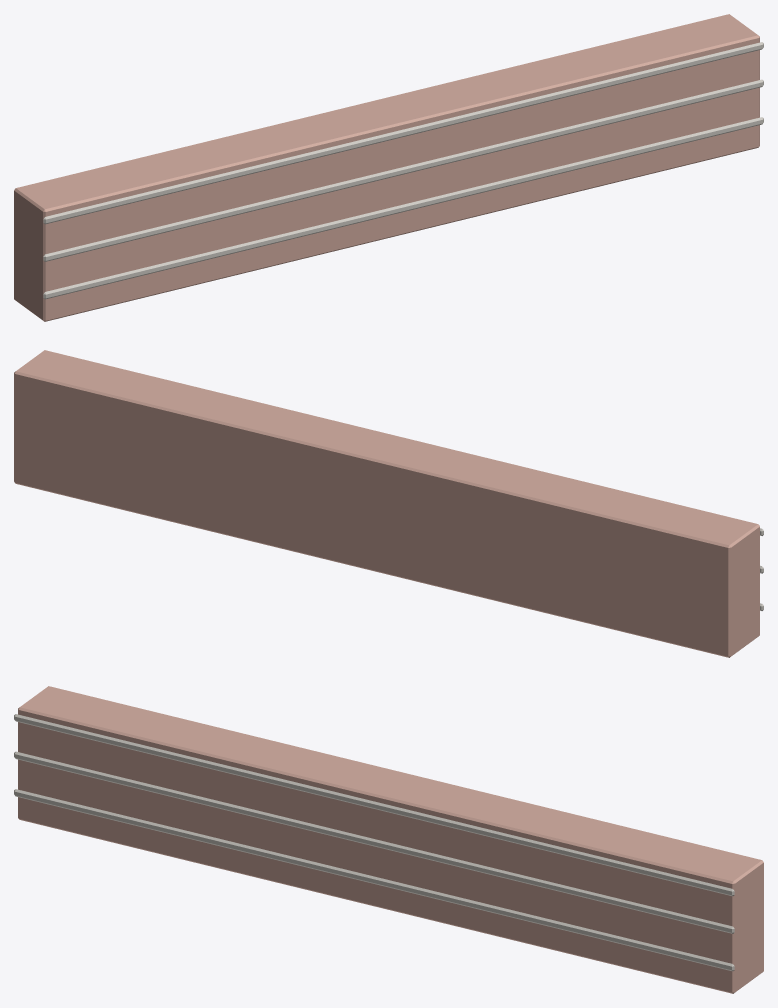
The model's file is SM_Foundation_Brick.fbx.
3 renders of one model, top to bottom at view 1: azimuth 30°, elevation 25°; view 2: azimuth 150°, elevation 25°; view 3: azimuth 330°, elevation 25°, orthographic.
Parts seen in each view (by area): view 1: Foundation_Brick; view 2: Foundation_Brick; view 3: Foundation_Brick.
Boxes of the visible parts, box(x1,y1,x2,y2) form: Foundation_Brick: box(14, 14, 763, 321); Foundation_Brick: box(14, 350, 763, 657); Foundation_Brick: box(14, 686, 763, 993).
Size of the model in its own units: 402 by 60 by 32.
